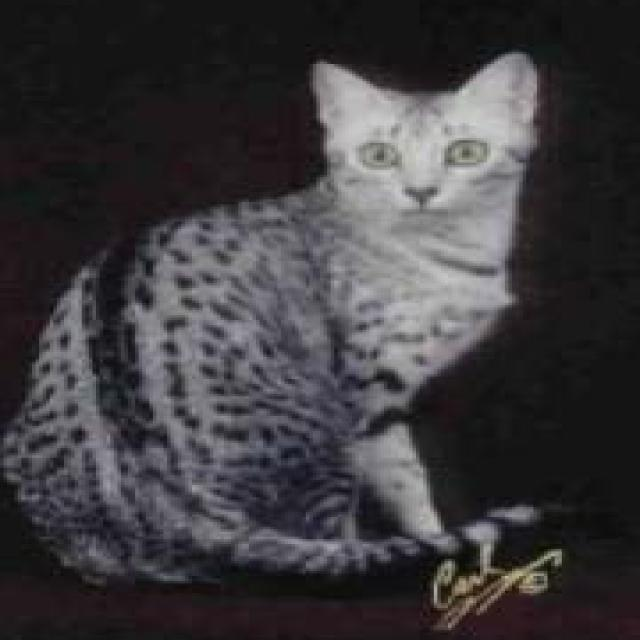Egyptian Mau: (0, 42, 548, 596)
